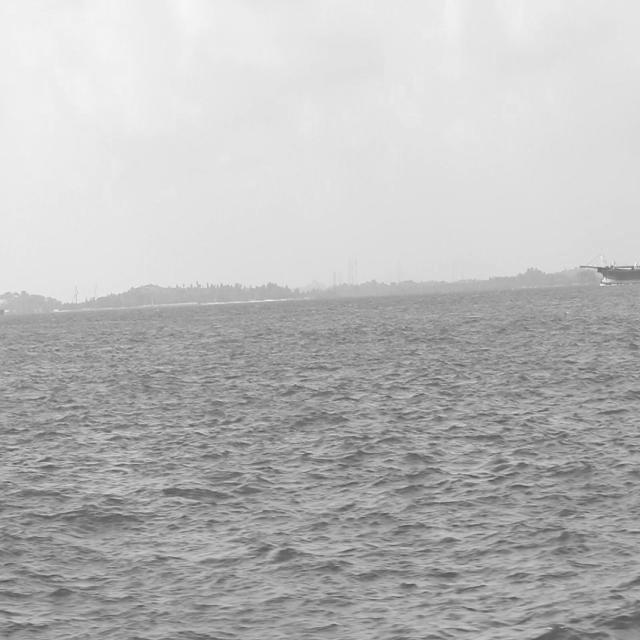ship: (574, 249, 639, 287)
